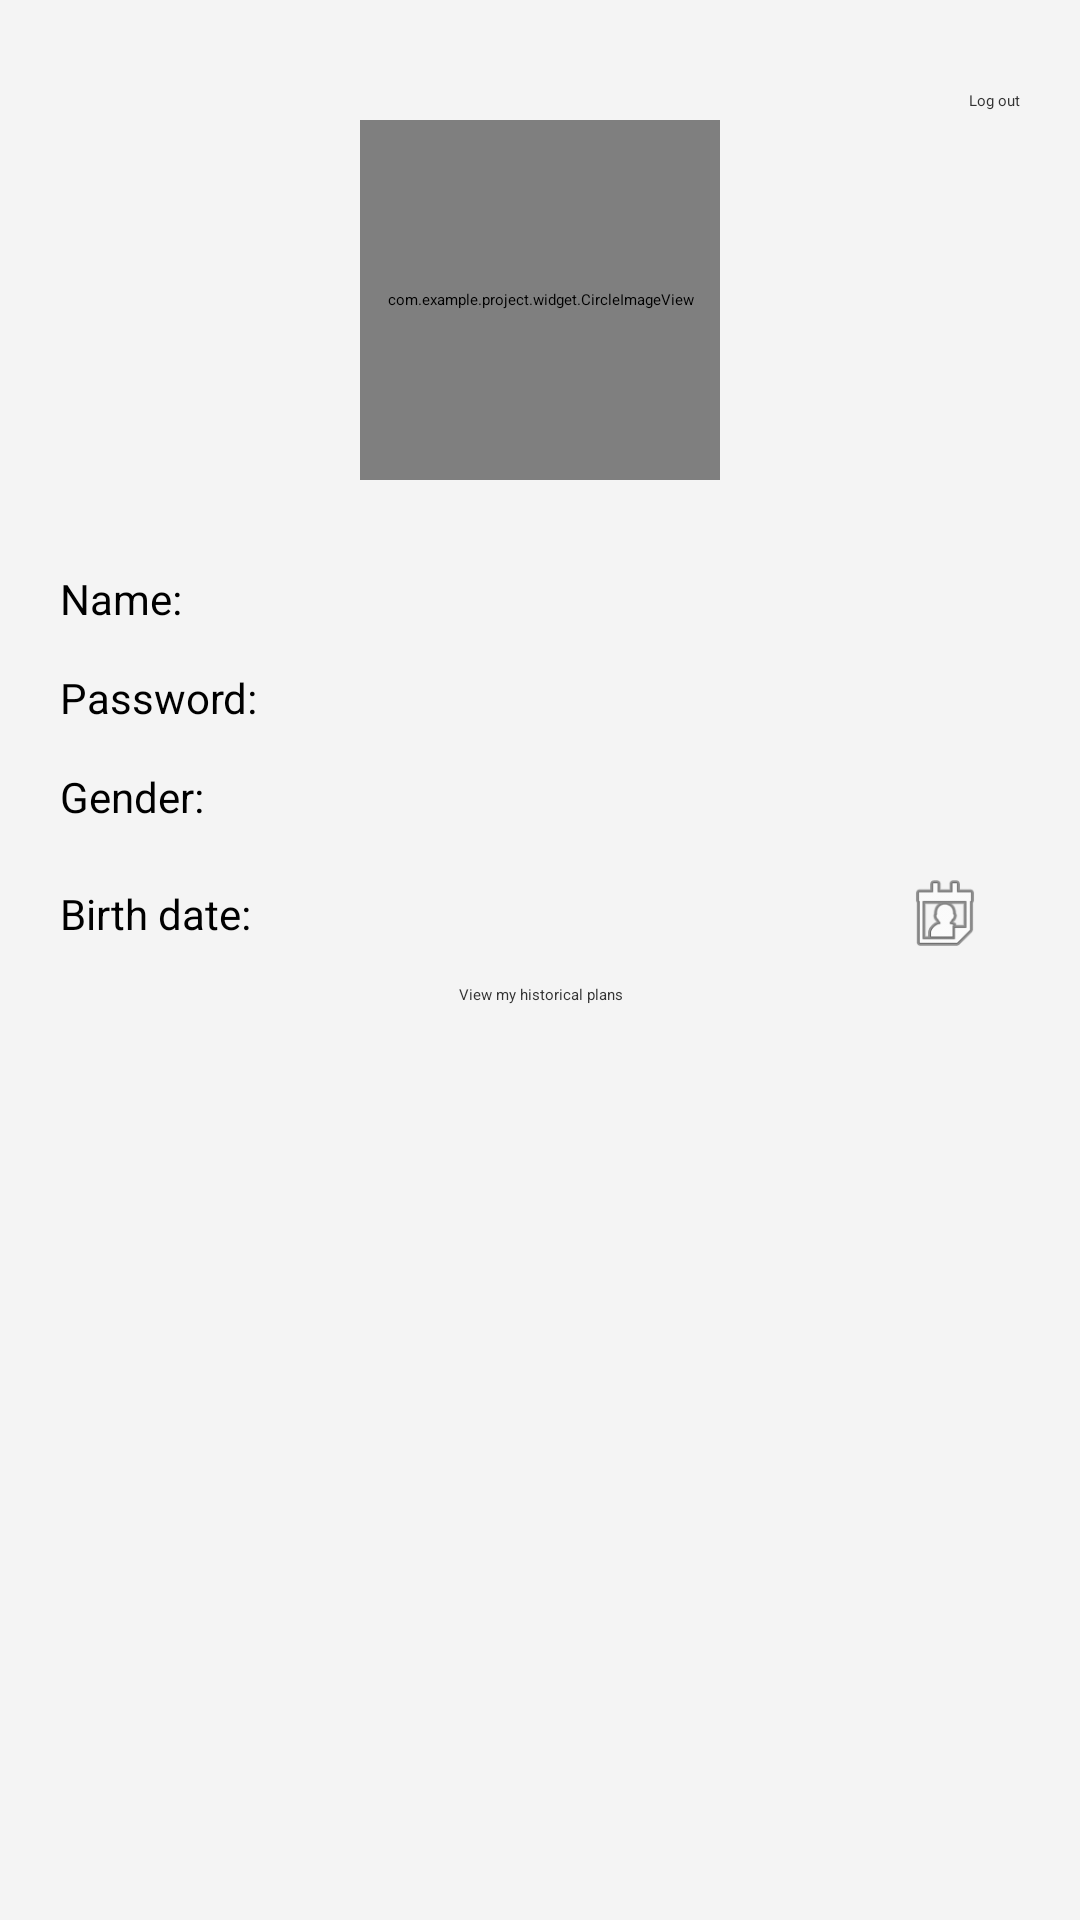

Screen size 1080 × 1920. Icon name, then its box in pixels as (x1, y1, x2, y2):
calendar: (916, 880, 974, 946)
